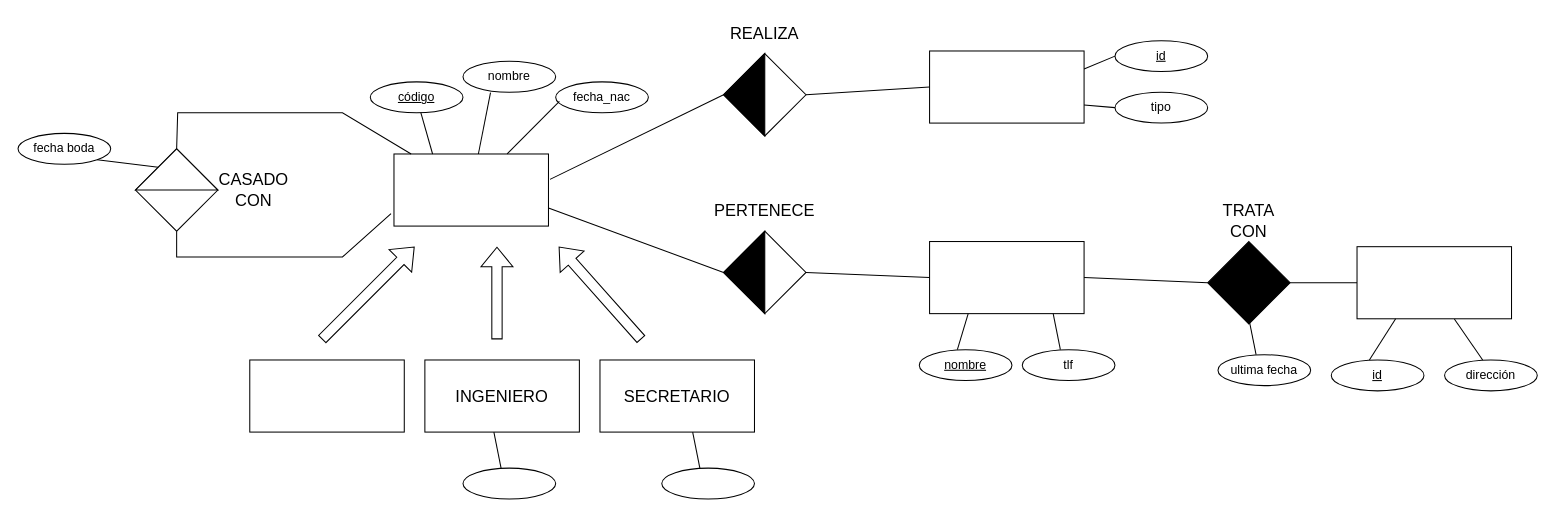
Some shapes in this 1555 by 517 pixel diagram are drawn without their labels. Each missing label, with the centre of its shape:
"CONSERJE" goes at point 326,395.
"DEPARTAMENTO" goes at point 1006,277.
"EMPLEADO" goes at point 470,189.
"especialidad" goes at point 509,483.
"PROVEEDOR" goes at point 1434,282.
"pulsaciones" goes at point 707,483.
"TRABAJO" goes at point 1006,86.
